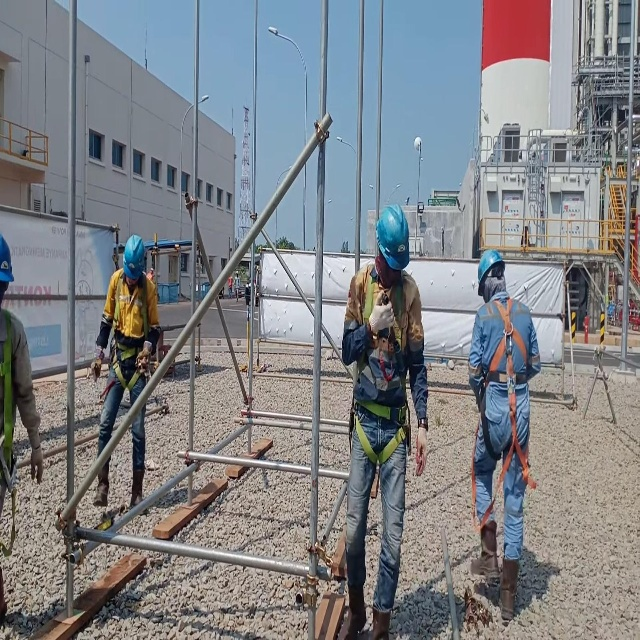Arnes_seguridad: (472, 294, 540, 530), (351, 267, 413, 475), (0, 301, 18, 569), (112, 265, 150, 390)
